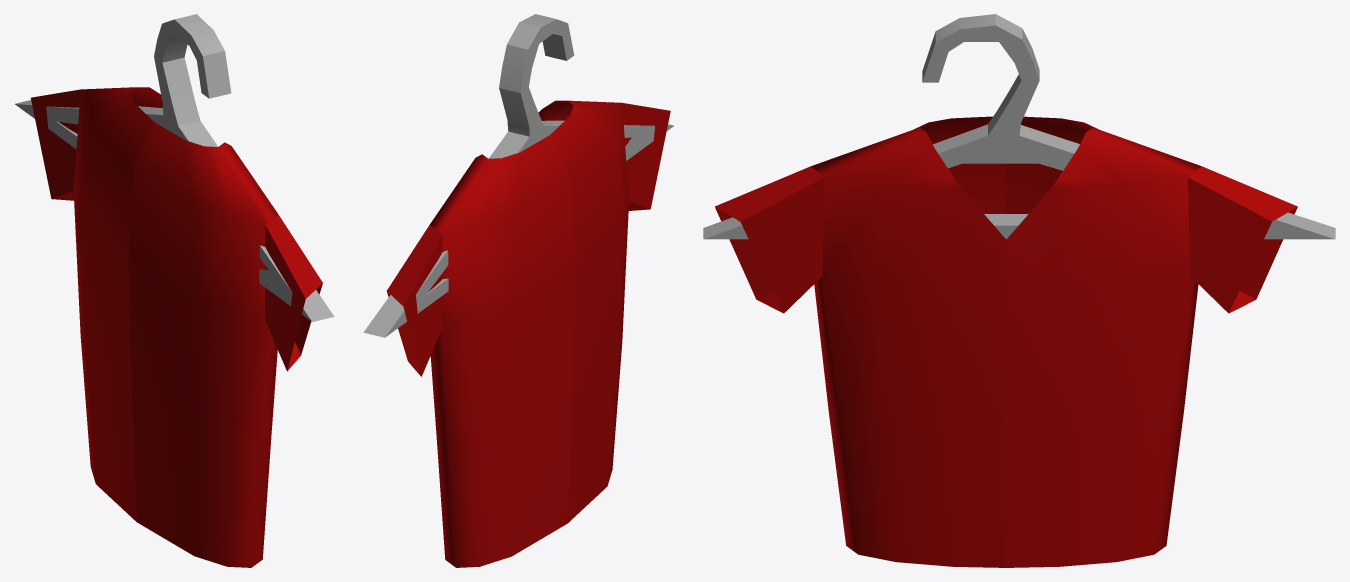
The model's file is hanger.fbx.
The picture shows the model from 3 angles, left to right: view 1: azimuth 30°, elevation 25°; view 2: azimuth 150°, elevation 25°; view 3: azimuth 270°, elevation 25°; orthographic projection. The views are drawn at different scales.
Parts seen in each view (by area): view 1: pCylinder5, pPlane1; view 2: pCylinder5, pPlane1; view 3: pCylinder5, pPlane1.
Boxes of the visible parts, x1=… form: pCylinder5: x1=31, y1=87, x2=322, y2=567; pPlane1: x1=15, y1=14, x2=334, y2=321; pCylinder5: x1=386, y1=100, x2=670, y2=567; pPlane1: x1=363, y1=14, x2=674, y2=337; pCylinder5: x1=715, y1=116, x2=1297, y2=567; pPlane1: x1=703, y1=14, x2=1335, y2=239.
Size of the model in its own units: 11.13 by 55.58 by 60.25.
